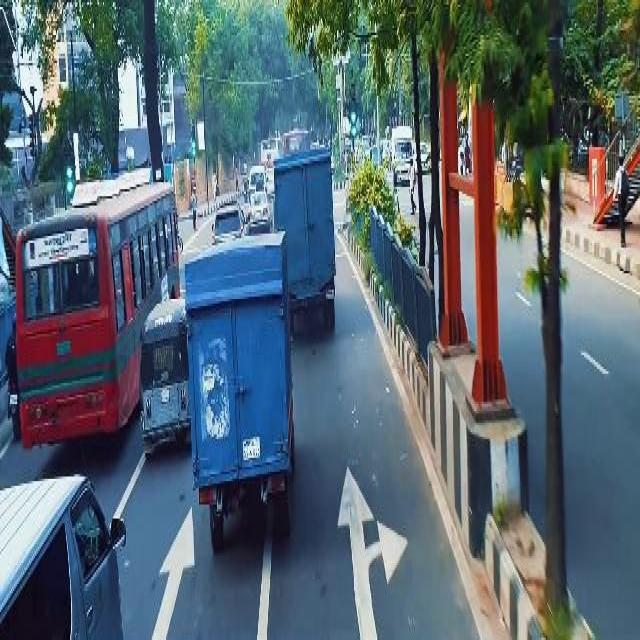11: (184, 226, 296, 554), (270, 145, 338, 341), (388, 123, 416, 188)
17: (136, 294, 192, 448)
5: (244, 183, 272, 230)
Truck: (11, 174, 137, 447)
